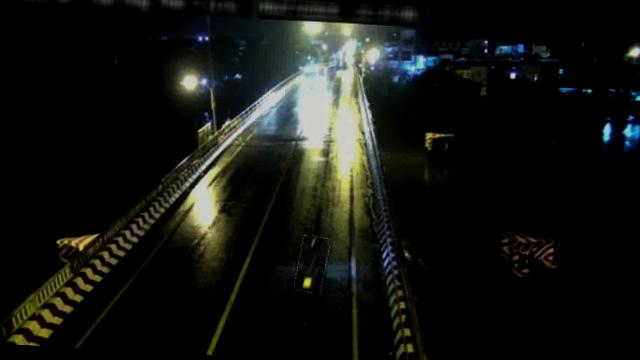Bike: (295, 234, 328, 292)
